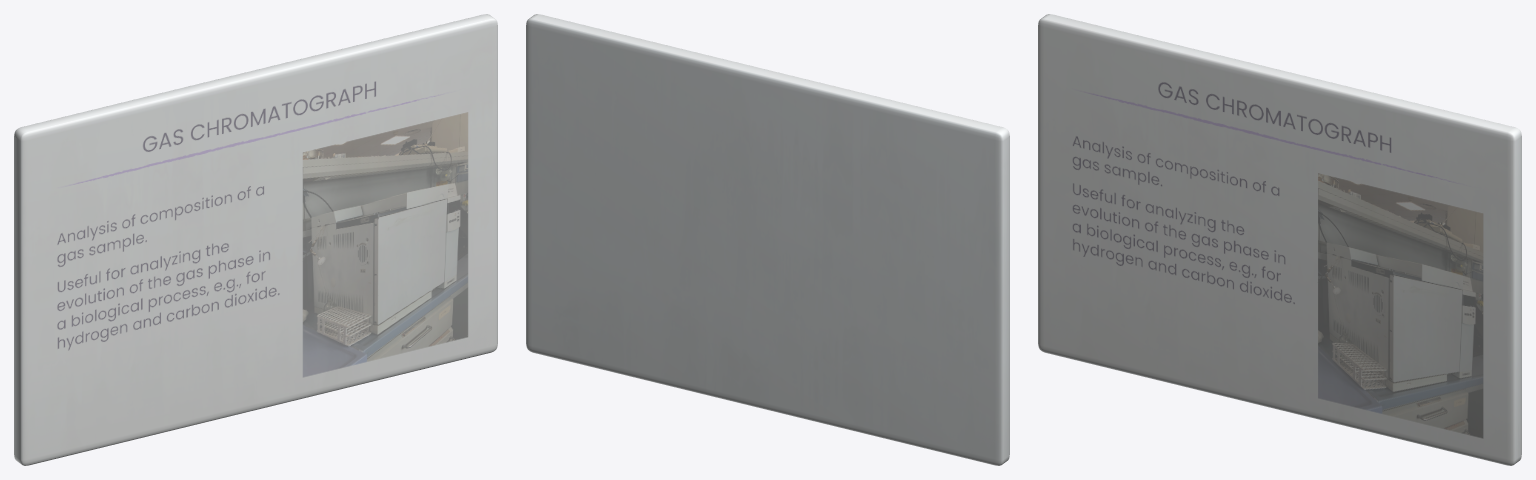
The model's file is Cartel_CromatografoGas.glb.
3 views of the same model, side by side, from view 1: azimuth 30°, elevation 25°; view 2: azimuth 150°, elevation 25°; view 3: azimuth 330°, elevation 25° (orthographic).
Visible parts, largest first — view 1: Box011; view 2: Box011; view 3: Box011.
Part boxes in pixels (x1,y1,x2,y2): Box011: [14, 14, 497, 465]; Box011: [526, 14, 1009, 465]; Box011: [1038, 14, 1521, 465].
Size of the model in its own units: 1.1 by 0.7335 by 0.0348.
1 material, 1 textured.
